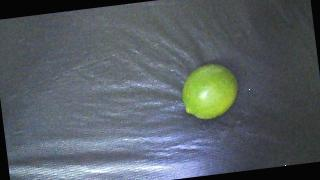LOCAL: (179, 61, 241, 121)
